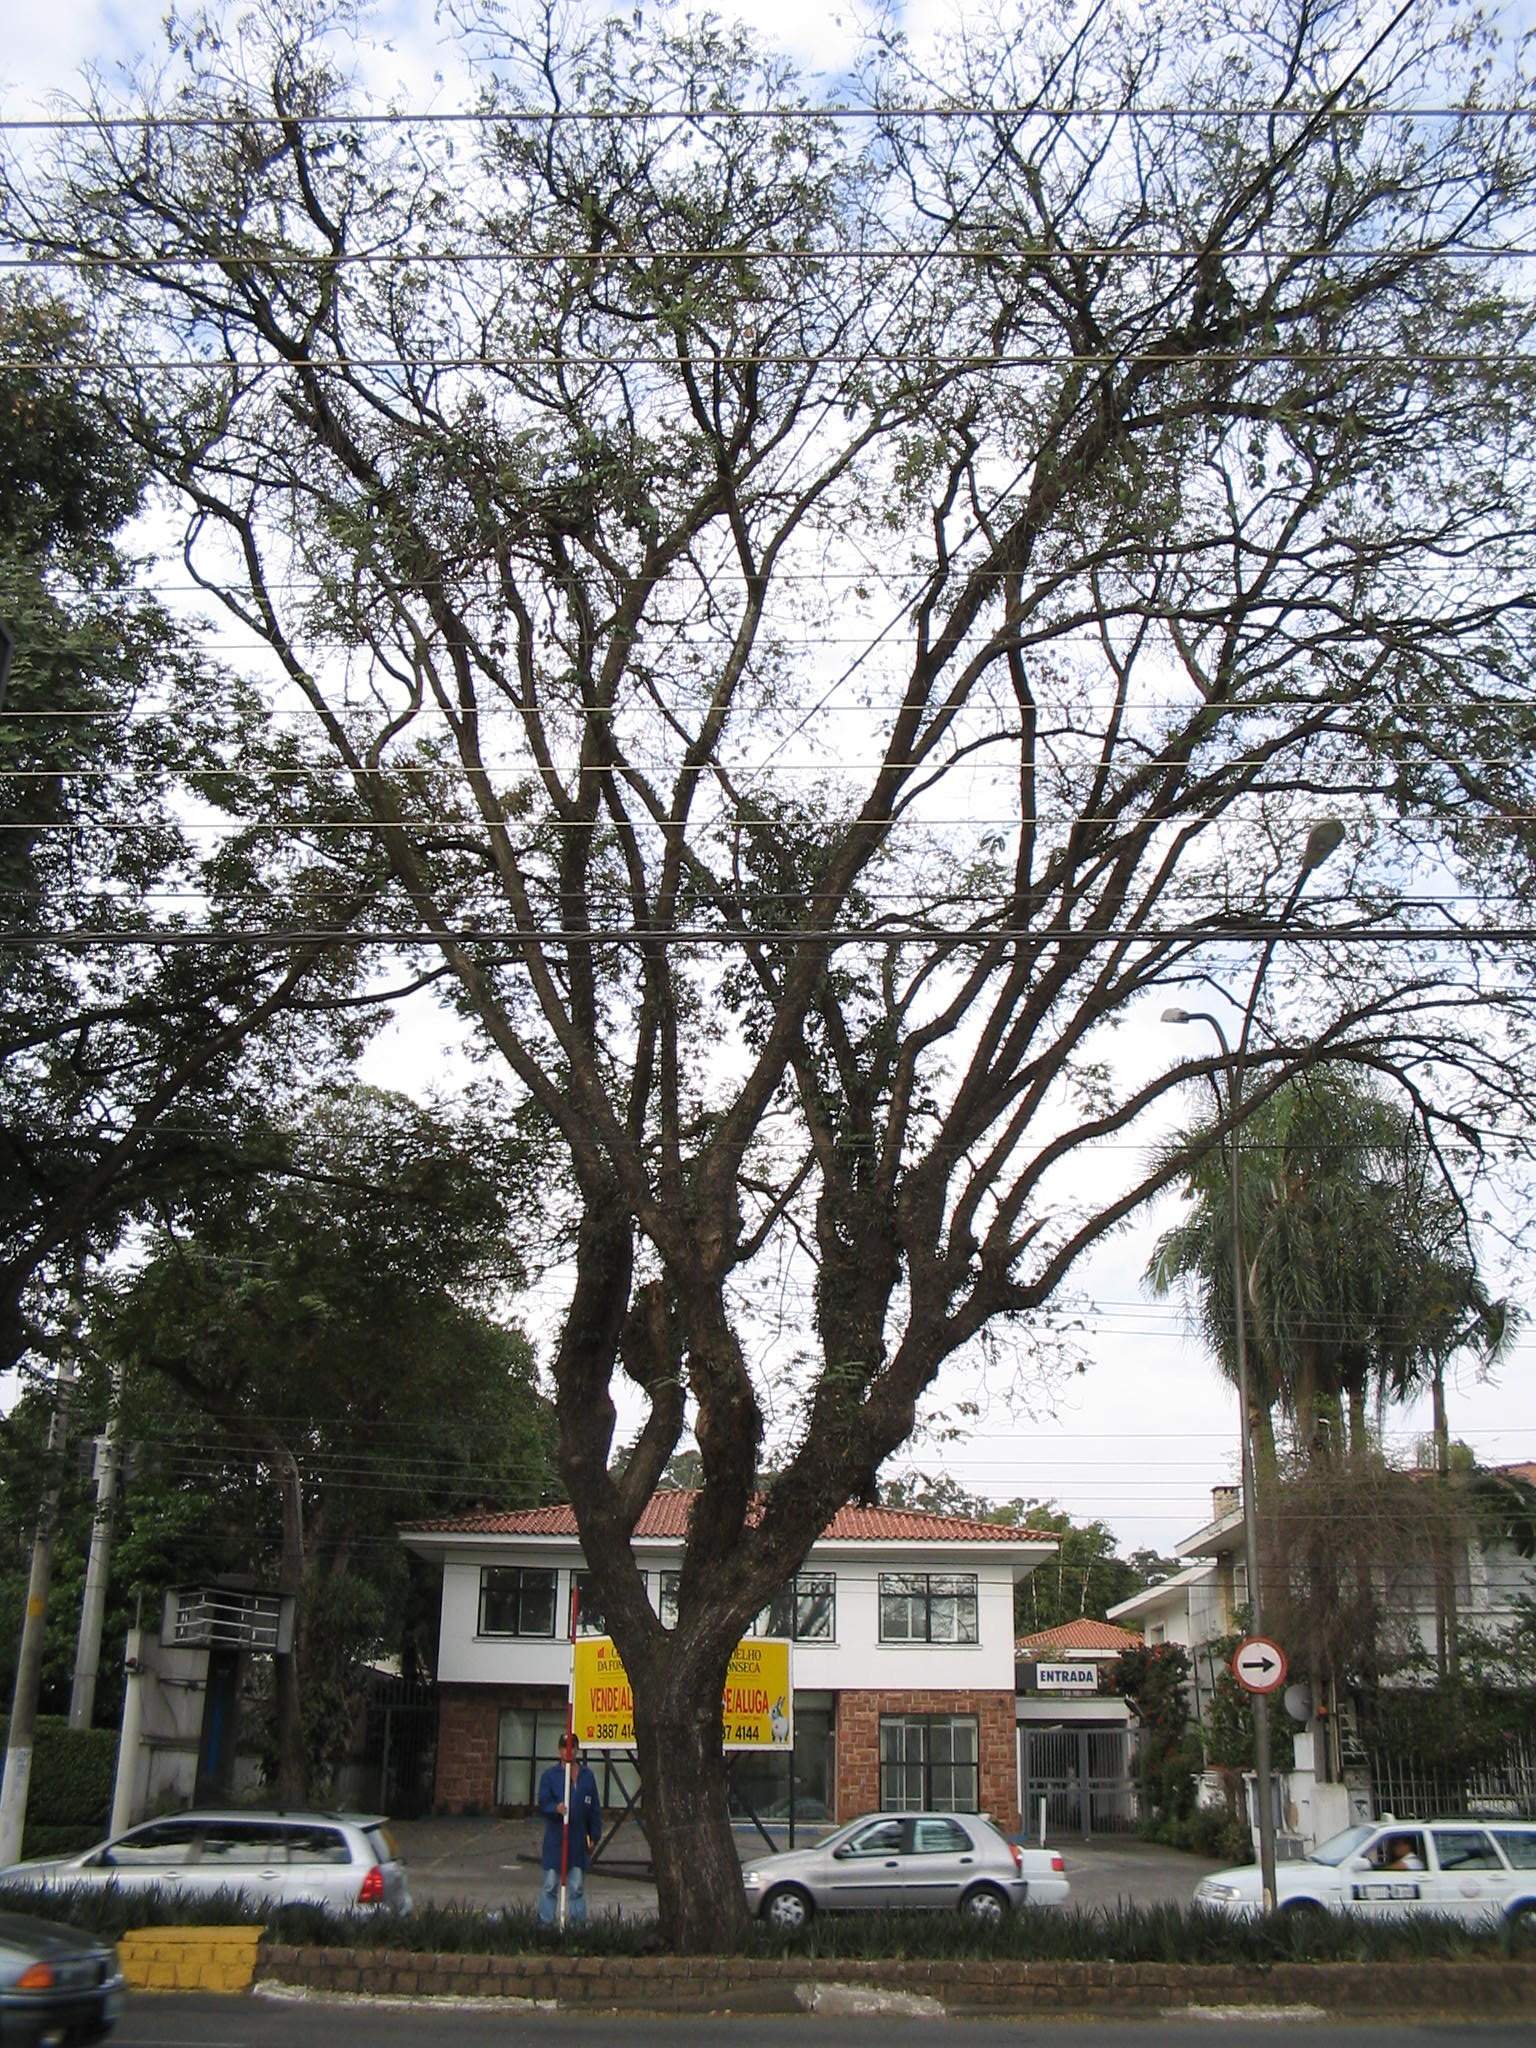crown: (6, 5, 1536, 1329)
stem: (591, 1646, 803, 1950)
stick: (541, 1587, 599, 1934)
tree: (2, 2, 1536, 1954)
